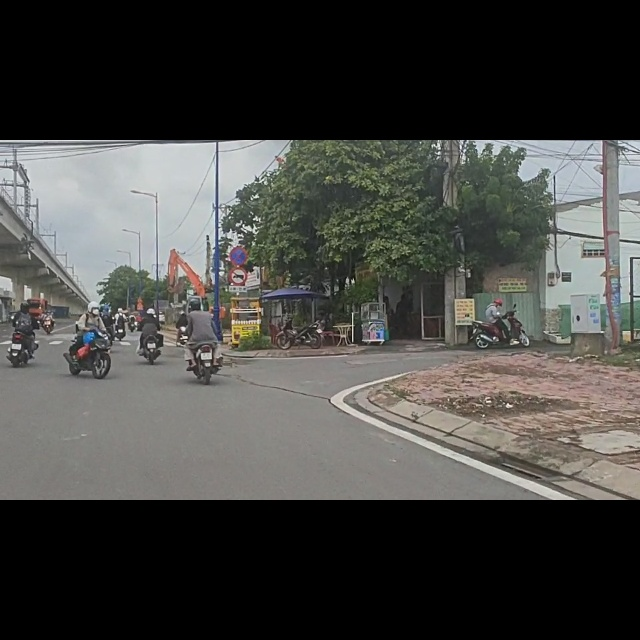bien_nguy_hiem: (228, 225, 249, 261), (227, 190, 249, 223)
